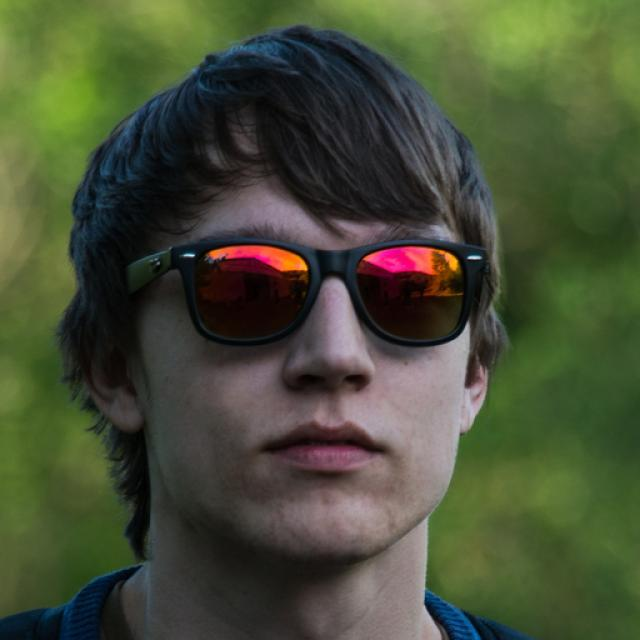neutral: (145, 184, 464, 558)
